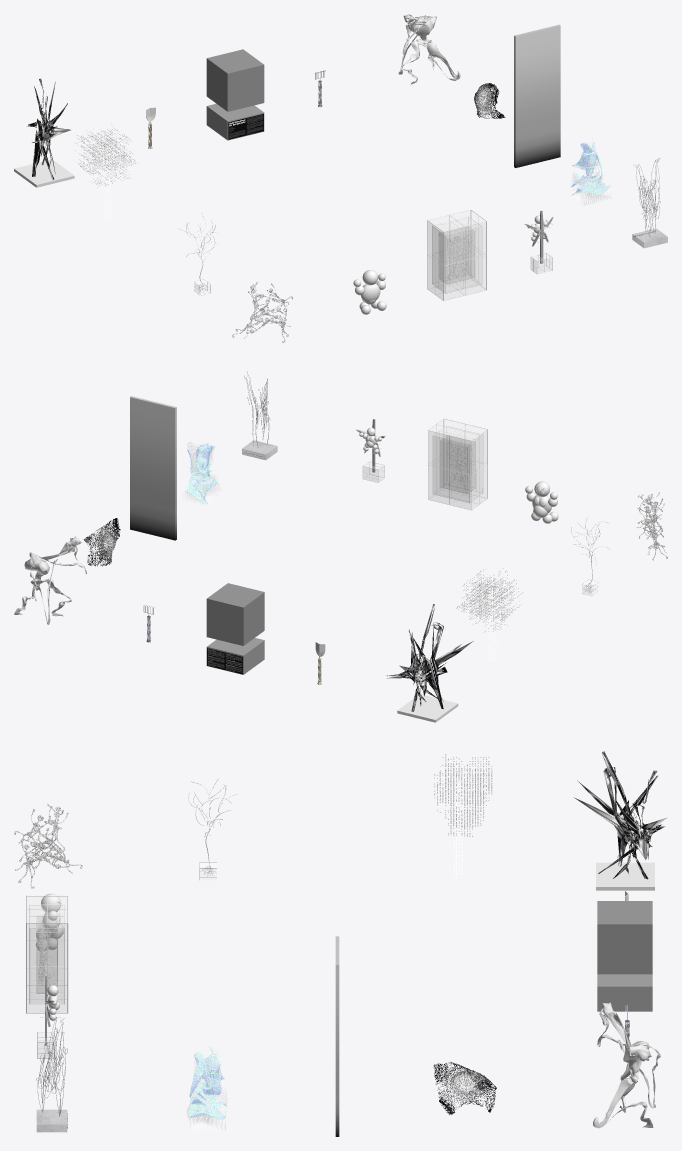
The picture shows the model from 3 angles, top to bottom: view 1: azimuth 30°, elevation 25°; view 2: azimuth 150°, elevation 25°; view 3: azimuth 270°, elevation 25°; orthographic projection. The views are drawn at different scales.
Visible parts, largest first — view 1: 2002-WHT, Mesh_2006_1, Mesh_2006, Mesh_0030, Mesh_4004, LEGEND-CHRM, CROOKEDASWEFUNASYU-WHT, MYSTIC-BRED003, Mesh_1080_1, Mesh_2037, Mesh_1080, Mesh_0126 (+3 smaller); view 2: 2002-WHT, Mesh_2006_1, Mesh_2006, LEGEND-CHRM, Mesh_0030, Mesh_4004, CROOKEDASWEFUNASYU-WHT, MYSTIC-BRED003, Mesh_1080_1, Mesh_2037, MONO, Mesh_0126 (+2 smaller); view 3: Mesh_2006_1, LEGEND-CHRM, Mesh_2006, Mesh_0030, Mesh_4004, CROOKEDASWEFUNASYU-WHT, Mesh_2037, MONO, Mesh_1080_1, Mesh_1080, 2002-WHT, MYSTIC-BRED003 (+2 smaller).
Boxes of the visible parts, left/top/right/bottom form: 2002-WHT: left=514, top=24, right=560, bottom=167; Mesh_2006_1: left=74, top=124, right=660, bottom=342; Mesh_2006: left=428, top=210, right=485, bottom=299; Mesh_0030: left=206, top=49, right=264, bottom=111; Mesh_4004: left=433, top=217, right=481, bottom=292; LEGEND-CHRM: left=14, top=78, right=74, bottom=187; CROOKEDASWEFUNASYU-WHT: left=398, top=14, right=460, bottom=85; MYSTIC-BRED003: left=439, top=225, right=474, bottom=284; Mesh_1080_1: left=570, top=142, right=610, bottom=195; Mesh_2037: left=206, top=103, right=264, bottom=140; Mesh_1080: left=571, top=136, right=611, bottom=204; Mesh_0126: left=353, top=270, right=386, bottom=314; 2002-WHT: left=130, top=396, right=176, bottom=540; Mesh_2006_1: left=243, top=371, right=667, bottom=632; Mesh_2006: left=428, top=419, right=487, bottom=509; LEGEND-CHRM: left=386, top=604, right=473, bottom=722; Mesh_0030: left=206, top=583, right=264, bottom=645; Mesh_4004: left=433, top=426, right=482, bottom=501; CROOKEDASWEFUNASYU-WHT: left=14, top=536, right=86, bottom=624; MYSTIC-BRED003: left=440, top=435, right=475, bottom=493; Mesh_1080_1: left=185, top=443, right=219, bottom=505; Mesh_2037: left=206, top=638, right=264, bottom=674; MONO: left=83, top=518, right=120, bottom=566; Mesh_0126: left=525, top=481, right=558, bottom=523; Mesh_2006_1: left=14, top=754, right=492, bottom=1128; LEGEND-CHRM: left=574, top=751, right=667, bottom=890; Mesh_2006: left=27, top=896, right=66, bottom=1012; Mesh_0030: left=597, top=901, right=652, bottom=974; Mesh_4004: left=31, top=905, right=63, bottom=1003; CROOKEDASWEFUNASYU-WHT: left=593, top=1002, right=660, bottom=1128; Mesh_2037: left=597, top=974, right=652, bottom=1011; MONO: left=433, top=1062, right=496, bottom=1114; Mesh_1080_1: left=189, top=1045, right=226, bottom=1120; Mesh_1080: left=186, top=1046, right=226, bottom=1132; 2002-WHT: left=335, top=936, right=339, bottom=1136; MYSTIC-BRED003: left=36, top=915, right=57, bottom=993.
Bounding box in the file's own units: 41.36 × 12.05 × 41.4.
Materials: 22 (15 with a texture image).
